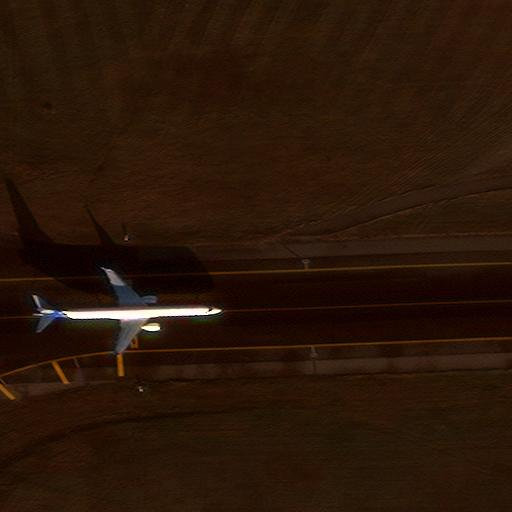Medium Civil Transport: (33, 268, 222, 351)
